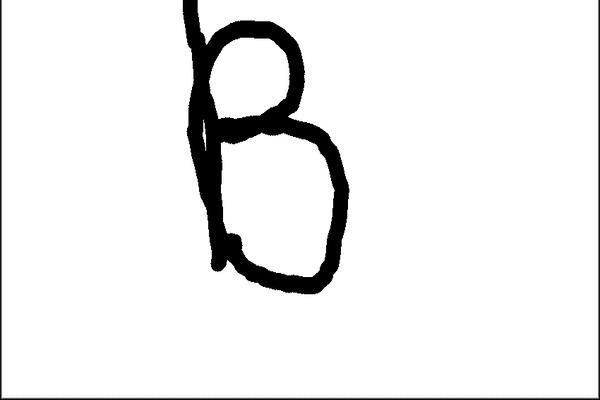B: (171, 0, 362, 304)
